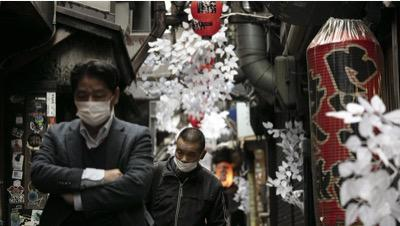mask_weared_incorrect: (172, 145, 198, 174)
with_mask: (73, 86, 111, 127)
